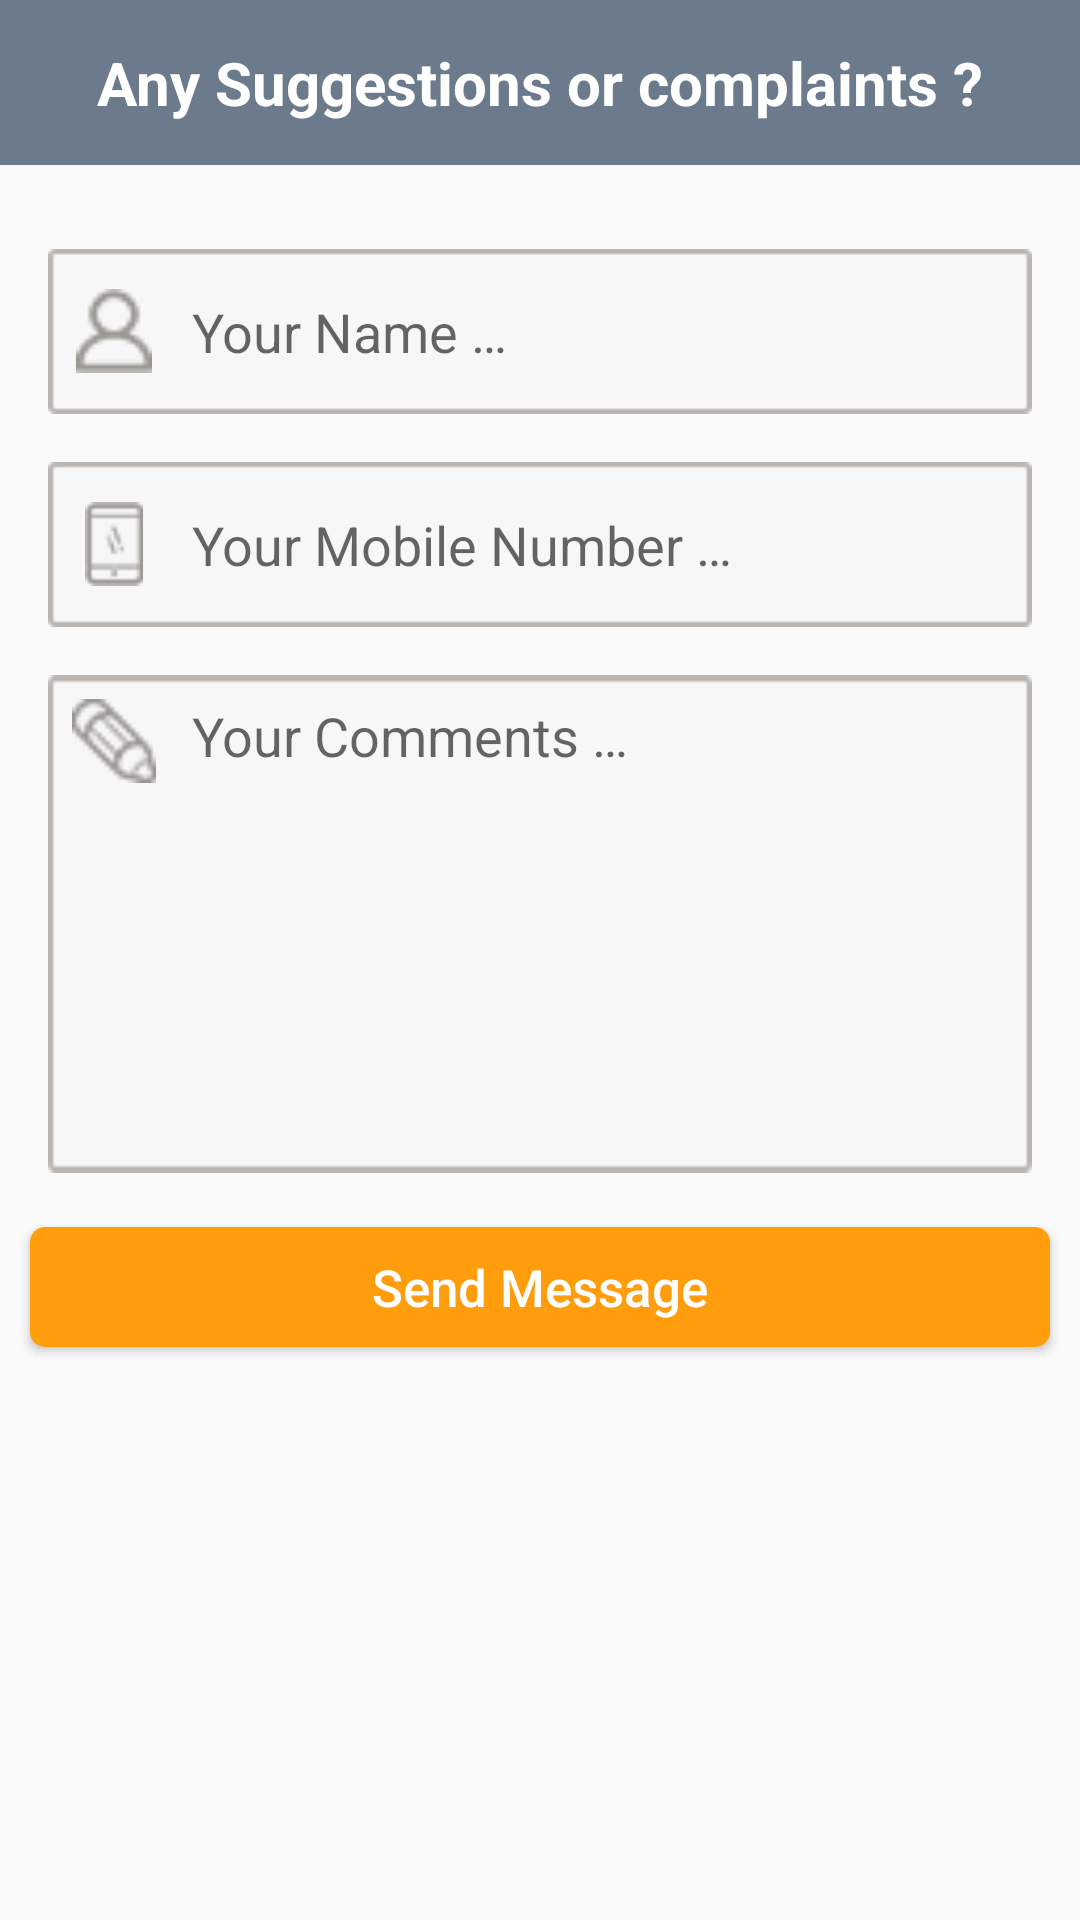

Screen size 1080*1920. Icon name, then its box in pixels as (x1, y1, x2, y2):
pen: (72, 699, 156, 783)
person: (76, 289, 152, 373)
phone: (85, 502, 143, 586)
